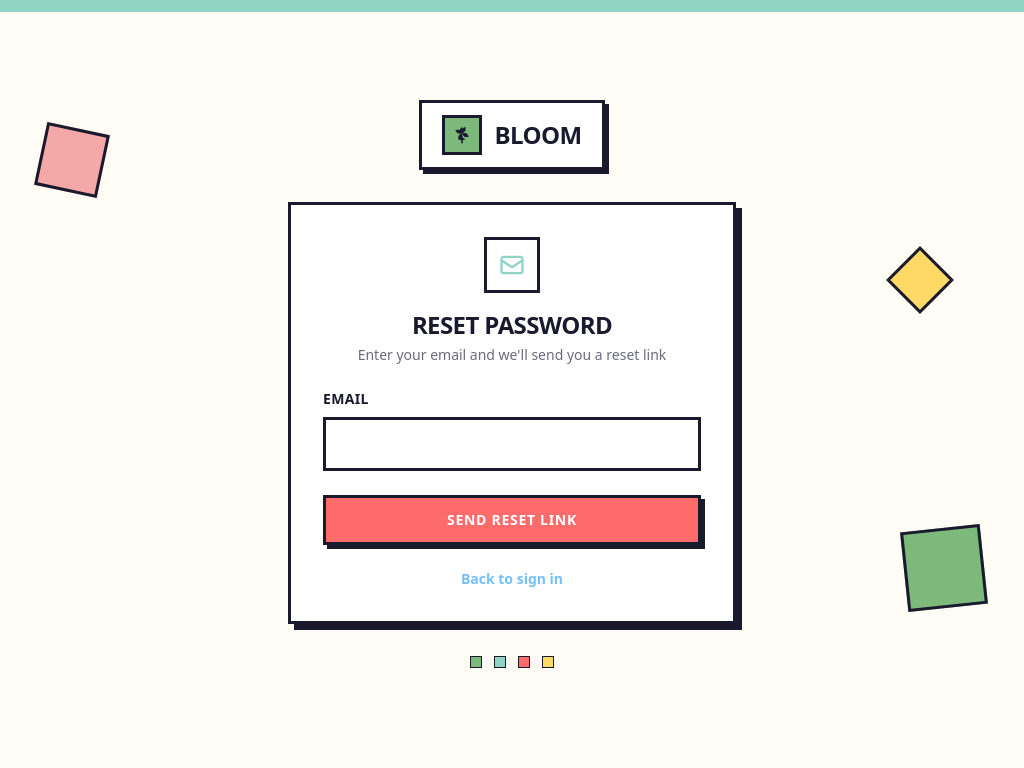
Test: ForgotPasswordPage › shows loading state during submission
Type "user@example.com" into the field labelled "Email" at (512, 444), box x1=323 y1=417 x2=701 y2=471
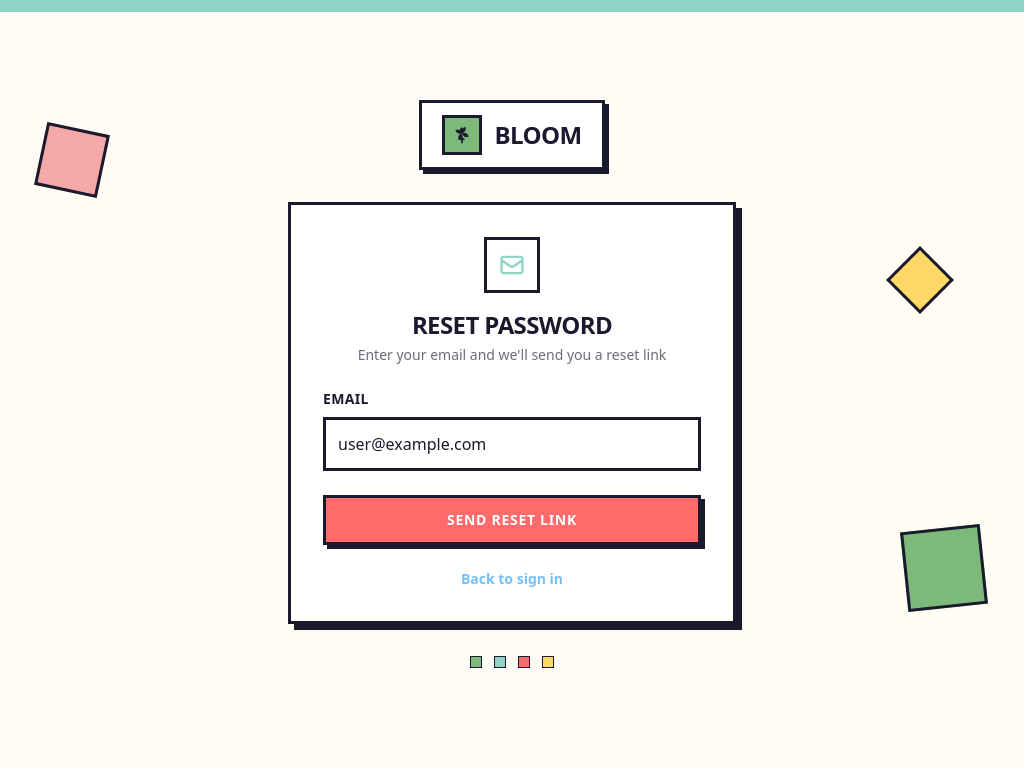
Click the button "Send reset link" at (512, 520), box x1=323 y1=495 x2=701 y2=545
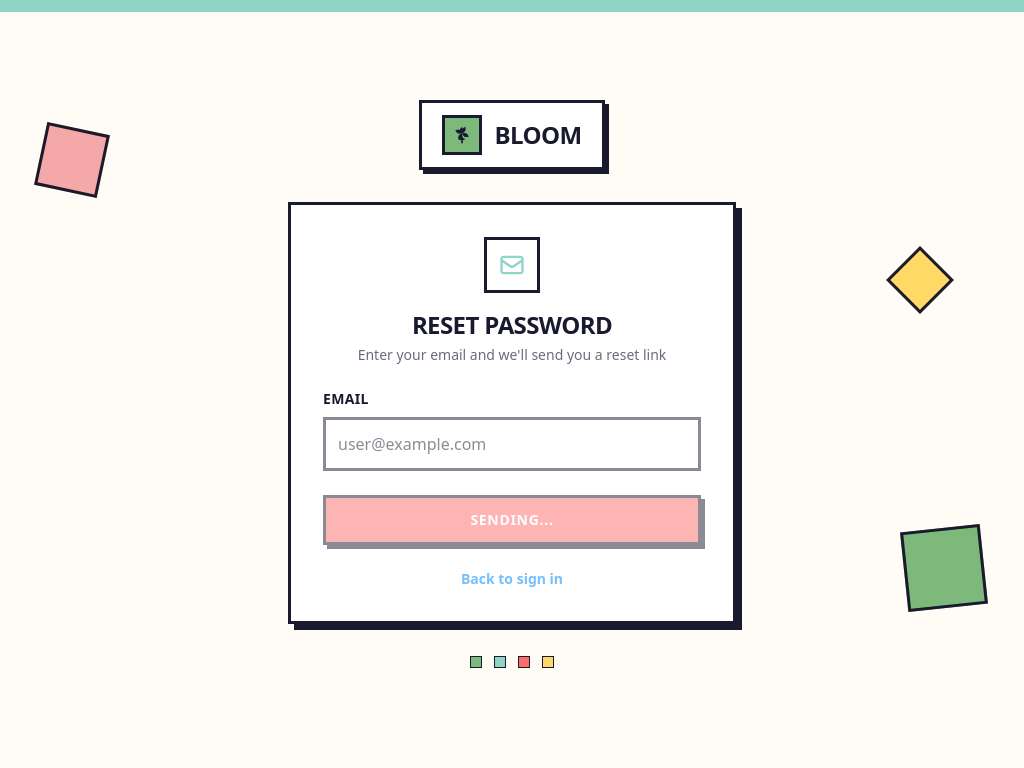
Now the button "Sending..." is shown, box x1=323 y1=495 x2=701 y2=545
